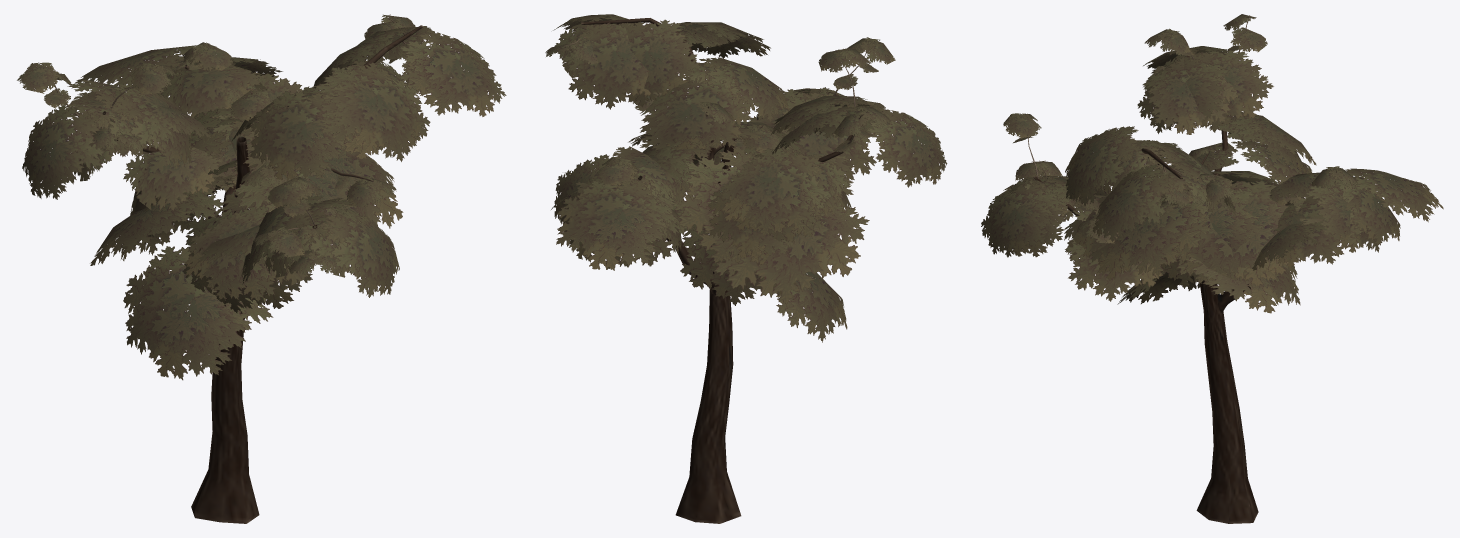
Rendered from Tree_04.fbx.
3 views of the same model, side by side, from view 1: azimuth 30°, elevation 25°; view 2: azimuth 150°, elevation 25°; view 3: azimuth 270°, elevation 25° (orthographic). The views are drawn at different scales.
Parts seen in each view (by area): view 1: Tree_04_LOD0; view 2: Tree_04_LOD0; view 3: Tree_04_LOD0.
Part boxes in pixels (<box>): Tree_04_LOD0: <box>17,14,506,523</box>; Tree_04_LOD0: <box>545,14,947,523</box>; Tree_04_LOD0: <box>981,14,1443,523</box>.
Size of what is drawn, in the model's own units: 271 by 296 by 288.
